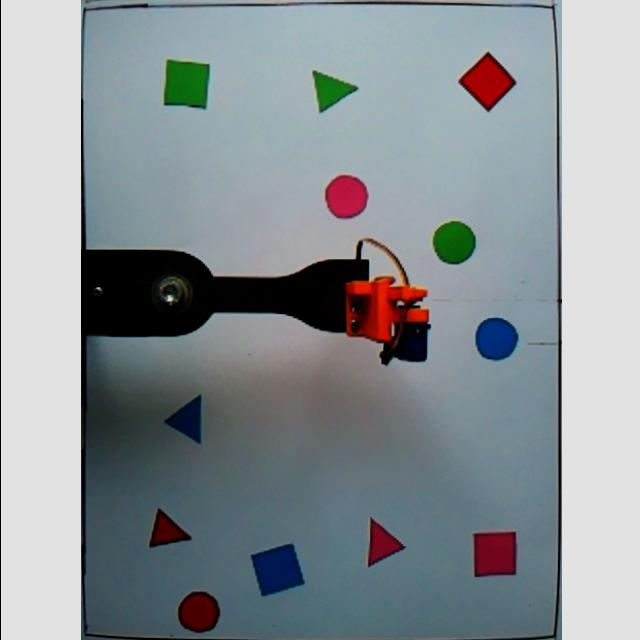blueCircle: (470, 314, 518, 362)
blueSquare: (245, 542, 302, 598)
blueTriangle: (160, 390, 206, 446)
greenCircle: (429, 220, 476, 266)
greenSquare: (158, 58, 210, 112)
greenTriangle: (306, 70, 359, 114)
pinkCircle: (320, 173, 368, 221)
pinkSquare: (470, 528, 516, 580)
pinkTriangle: (362, 516, 408, 566)
redCircle: (174, 588, 220, 634)
redSquare: (454, 49, 516, 117)
redTriangle: (144, 510, 192, 550)
